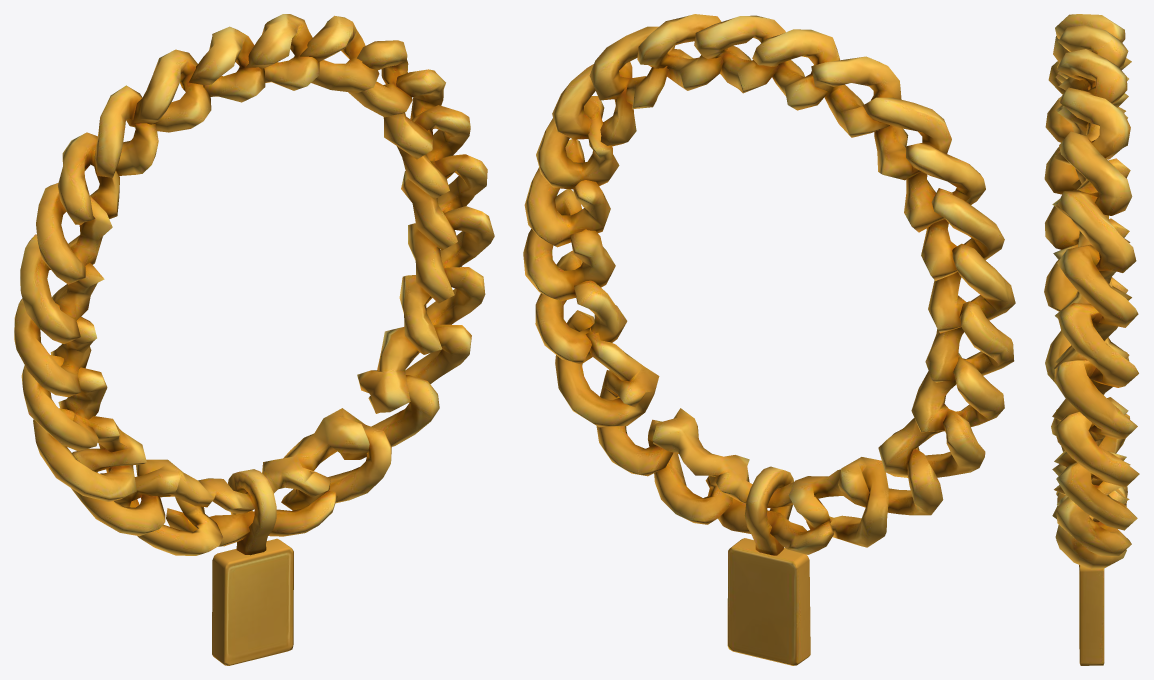
Rendered from jewelry.glb.
The picture shows the model from 3 angles, left to right: view 1: azimuth 30°, elevation 25°; view 2: azimuth 150°, elevation 25°; view 3: azimuth 270°, elevation 25°; orthographic projection. The views are drawn at different scales.
Parts seen in each view (by area): view 1: jewelry; view 2: jewelry; view 3: jewelry.
Part boxes in pixels (box(x1,y1,x2,y2)): jewelry: box(14, 14, 494, 665); jewelry: box(523, 14, 1015, 665); jewelry: box(1044, 14, 1139, 665).
Size of the model in its own units: 0.1573 by 0.2 by 0.0286.
1 material, 1 textured.
